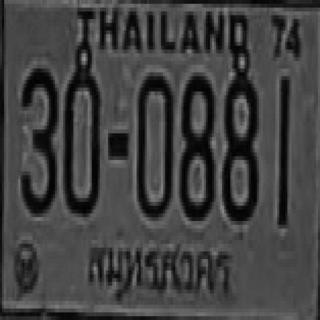N00: (63, 61, 98, 214), (137, 70, 171, 215)
N01: (277, 76, 287, 225)
N03: (19, 65, 56, 213)
N08: (220, 70, 257, 219), (179, 72, 214, 217)
P58: (86, 237, 234, 308)
